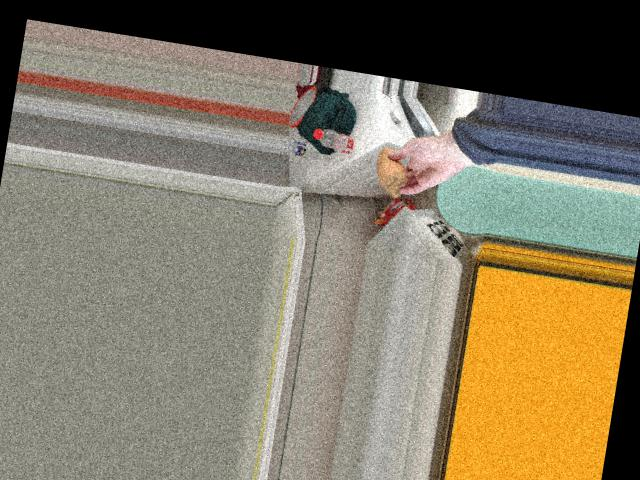sweet_potato: (372, 148, 415, 194)
